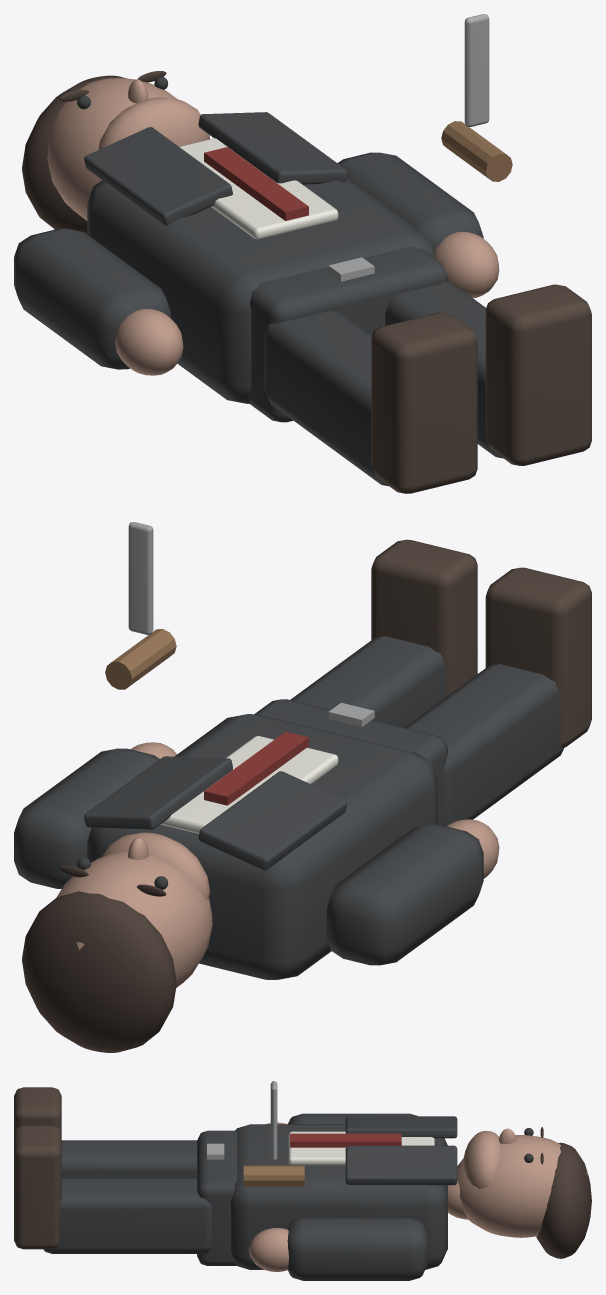
File: Raider.glb
3 renders of one model, top to bottom at view 1: azimuth 30°, elevation 25°; view 2: azimuth 150°, elevation 25°; view 3: azimuth 270°, elevation 25°, orthographic. The views are drawn at different scales.
Parts seen in each view (by area): view 1: torso tailored jacket.001, Left boot.001, Right boot.001, Left trouser.001, Left sleeve.001, waist.001, suit lapel, face.001, Right sleeve.001, suit lapel.001, shirt chest, Right trouser.001 (+8 smaller); view 2: torso tailored jacket.001, hair crown.001, Left sleeve.001, Left trouser.001, Left boot.001, Right boot.001, Right sleeve.001, Right trouser.001, suit lapel, face.001, suit lapel.001, waist.001 (+7 smaller); view 3: torso tailored jacket.001, Right trouser.001, Right sleeve.001, face.001, Right boot.001, Left trouser.001, suit lapel.001, hair crown.001, waist.001, suit lapel, Left boot.001, jaw.001 (+8 smaller).
Boxes of the visible parts, <box> form: torso tailored jacket.001: <box>87,178,434,403</box>; Left boot.001: <box>371,312,477,493</box>; Right boot.001: <box>485,284,591,465</box>; Left trouser.001: <box>264,311,388,486</box>; Left sleeve.001: <box>14,228,170,369</box>; waist.001: <box>249,246,447,422</box>; suit lapel: <box>84,127,232,225</box>; face.001: <box>47,78,177,220</box>; Right sleeve.001: <box>337,152,483,253</box>; suit lapel.001: <box>198,112,347,184</box>; shirt chest: <box>179,138,338,239</box>; Right trouser.001: <box>385,281,503,458</box>; torso tailored jacket.001: <box>87,714,437,979</box>; hair crown.001: <box>22,891,176,1052</box>; Left sleeve.001: <box>326,824,483,965</box>; Left trouser.001: <box>404,664,563,826</box>; Left boot.001: <box>485,567,591,747</box>; Right boot.001: <box>371,539,477,696</box>; Right sleeve.001: <box>14,748,159,888</box>; Right trouser.001: <box>290,636,445,727</box>; suit lapel: <box>198,771,347,870</box>; face.001: <box>56,852,212,987</box>; suit lapel.001: <box>84,756,232,829</box>; waist.001: <box>254,699,447,825</box>; torso tailored jacket.001: <box>231,1124,447,1269</box>; Right trouser.001: <box>43,1178,212,1253</box>; Right sleeve.001: <box>287,1217,427,1280</box>; face.001: <box>457,1135,587,1237</box>; Right boot.001: <box>14,1125,61,1249</box>; Left trouser.001: <box>61,1140,196,1178</box>; suit lapel.001: <box>345,1145,457,1185</box>; hair crown.001: <box>536,1142,591,1258</box>; waist.001: <box>197,1130,237,1265</box>; suit lapel: <box>345,1116,457,1138</box>; Left boot.001: <box>14,1087,61,1133</box>; jaw.001: <box>463,1130,500,1189</box>.
Bounding box in the file's own units: 1.15 × 0.9405 × 2.18.
